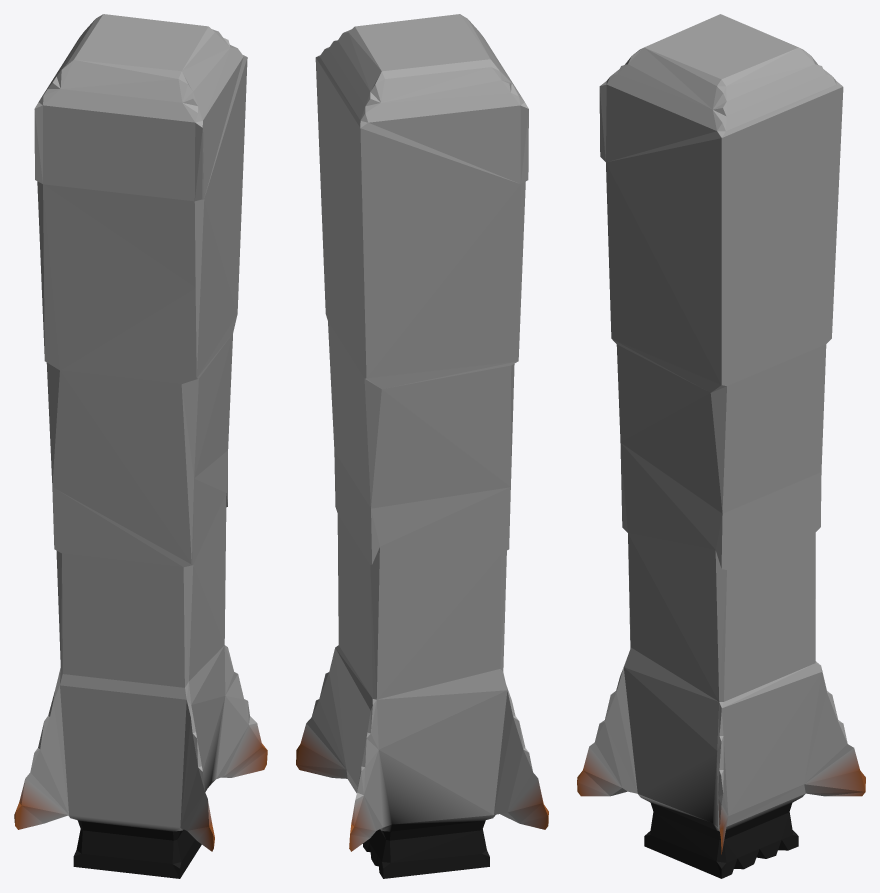
Rendered from Missiles and bombs.glb.
3 renders of one model, left to right at view 1: azimuth 30°, elevation 25°; view 2: azimuth 150°, elevation 25°; view 3: azimuth 270°, elevation 25°, orthographic.
Visible parts, largest first — view 1: Root; view 2: Root; view 3: Root.
Boxes of the visible parts, x1,y1,x2,y2 form: Root: [14, 14, 267, 878]; Root: [296, 14, 548, 878]; Root: [577, 14, 865, 878].
Size of the model in its own units: 1.19 by 3.63 by 1.19.
